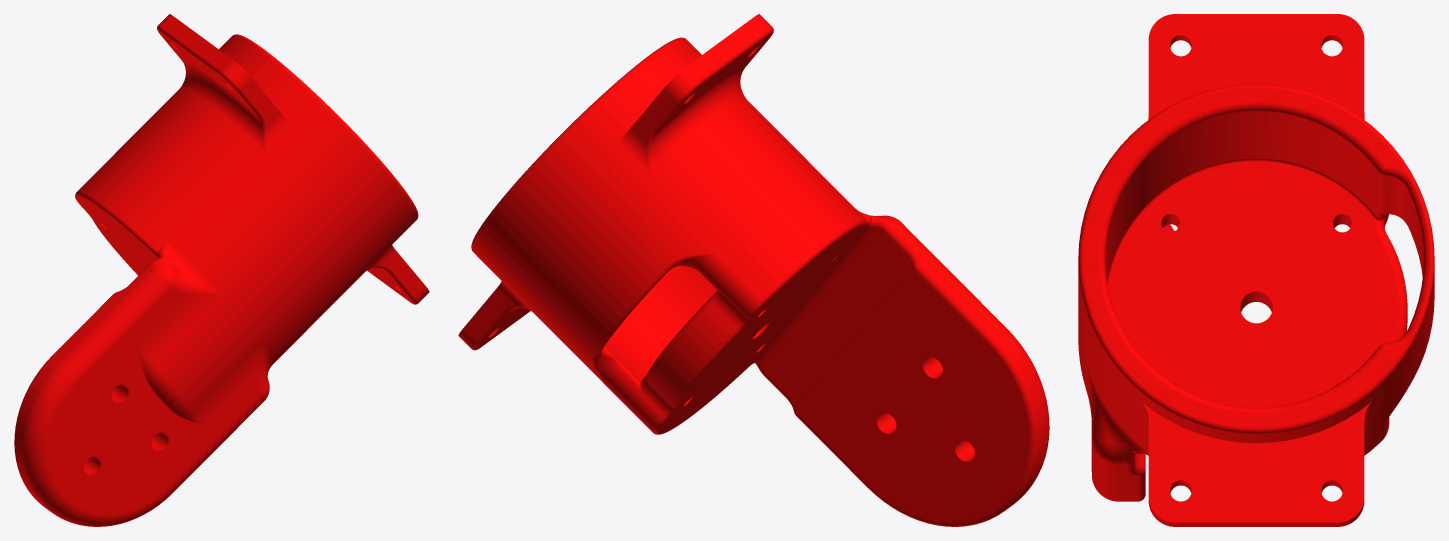
Rendered from left_arm_2_hand_1_mount_1.glb.
3 renders of one model, left to right at view 1: azimuth 30°, elevation 25°; view 2: azimuth 150°, elevation 25°; view 3: azimuth 270°, elevation 25°, orthographic. The views are drawn at different scales.
Parts seen in each view (by area): view 1: left_arm_2_hand_1_mount_1.obj; view 2: left_arm_2_hand_1_mount_1.obj; view 3: left_arm_2_hand_1_mount_1.obj.
Part boxes in pixels (x1,y1,x2,y2): left_arm_2_hand_1_mount_1.obj: [14, 14, 429, 526]; left_arm_2_hand_1_mount_1.obj: [458, 14, 1049, 526]; left_arm_2_hand_1_mount_1.obj: [1078, 14, 1434, 526].
Size of the model in its own units: 0.124 by 0.1158 by 0.066.
